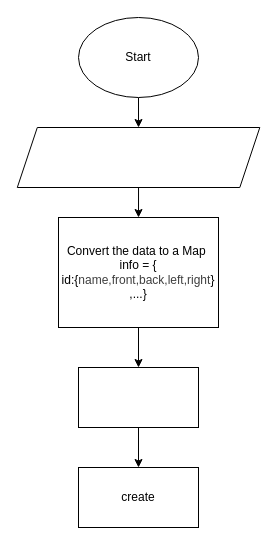
The diagram is 278 pixels wide and 545 high, and some of its shapes have lost their labels. The box of each missing label's shape, as (x1, y1, x2, y2) in pixels:
data = [{ id,name,front,back,left,right },...]: (16, 126, 260, 188)
Loop through the key of the info Map: (78, 366, 198, 428)
